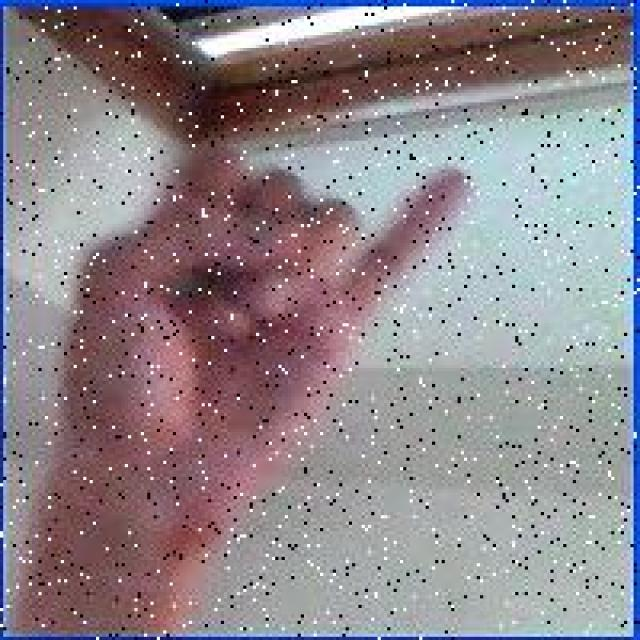J: (43, 102, 482, 534)
